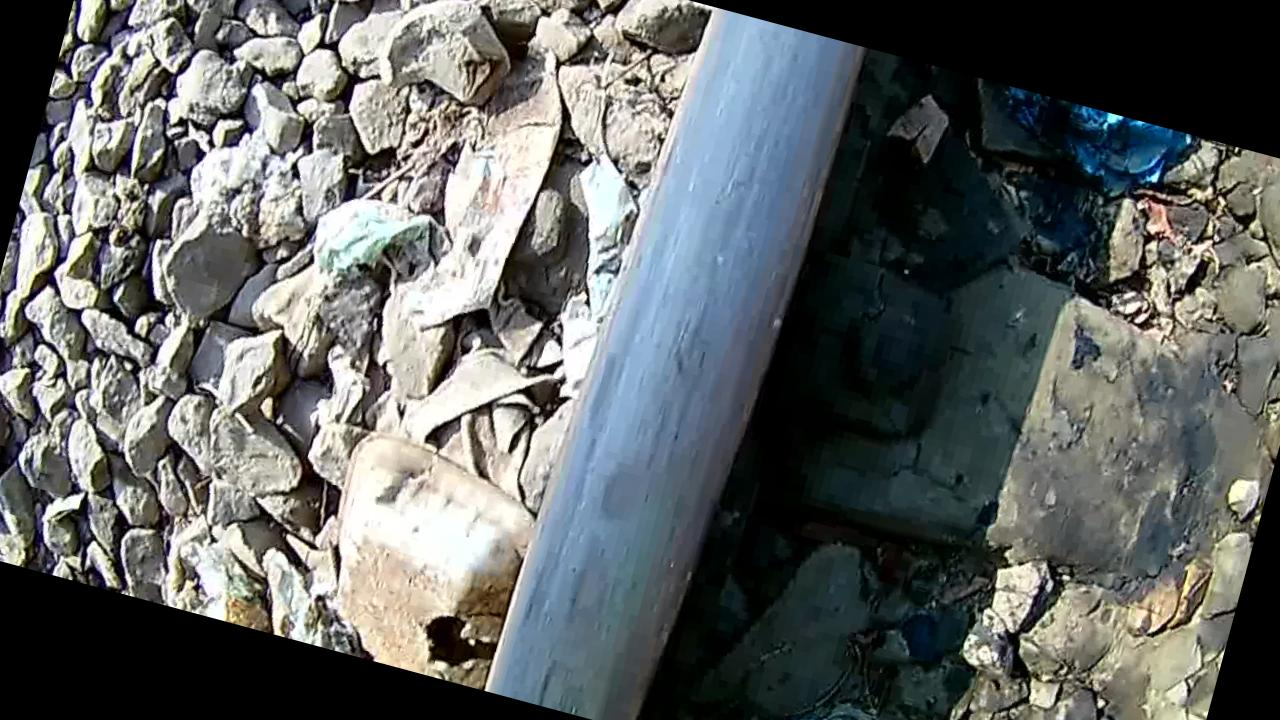bolt_missing: (478, 228, 793, 720)
